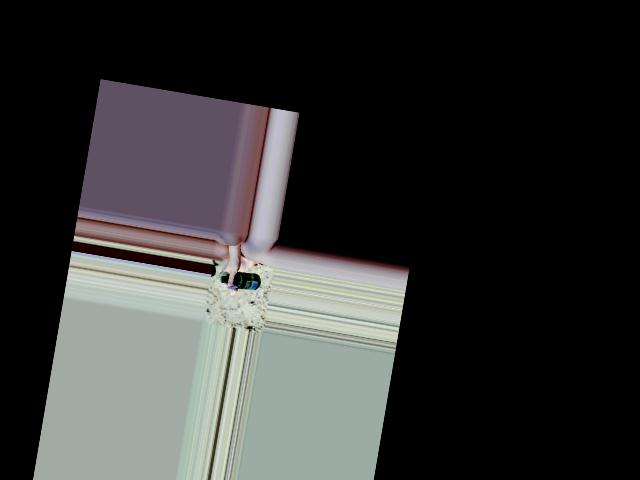beer: (219, 267, 262, 291)
